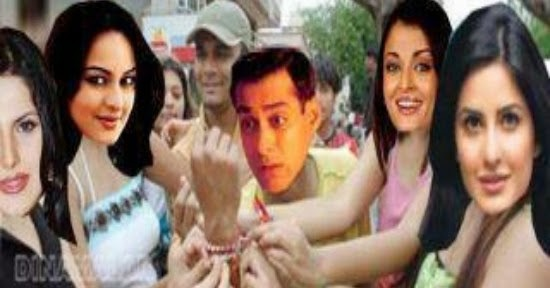bad: (438, 92, 545, 199), (215, 86, 305, 176), (71, 55, 146, 130), (370, 47, 444, 121)
